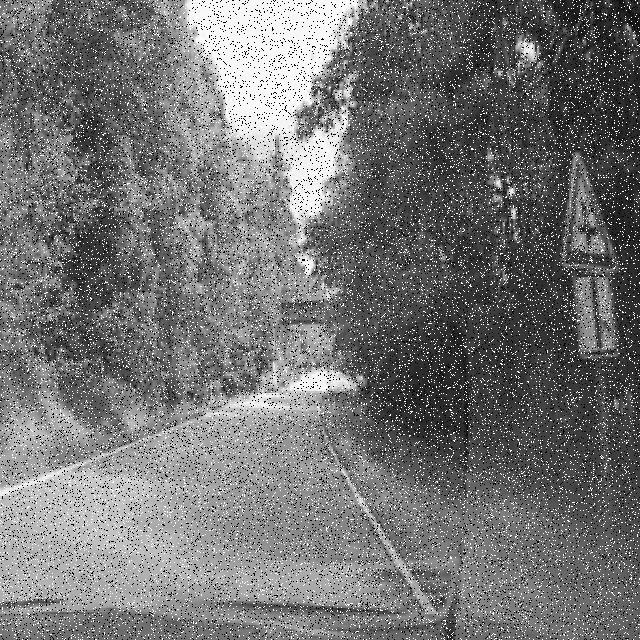clear-road: (23, 395, 372, 559)
